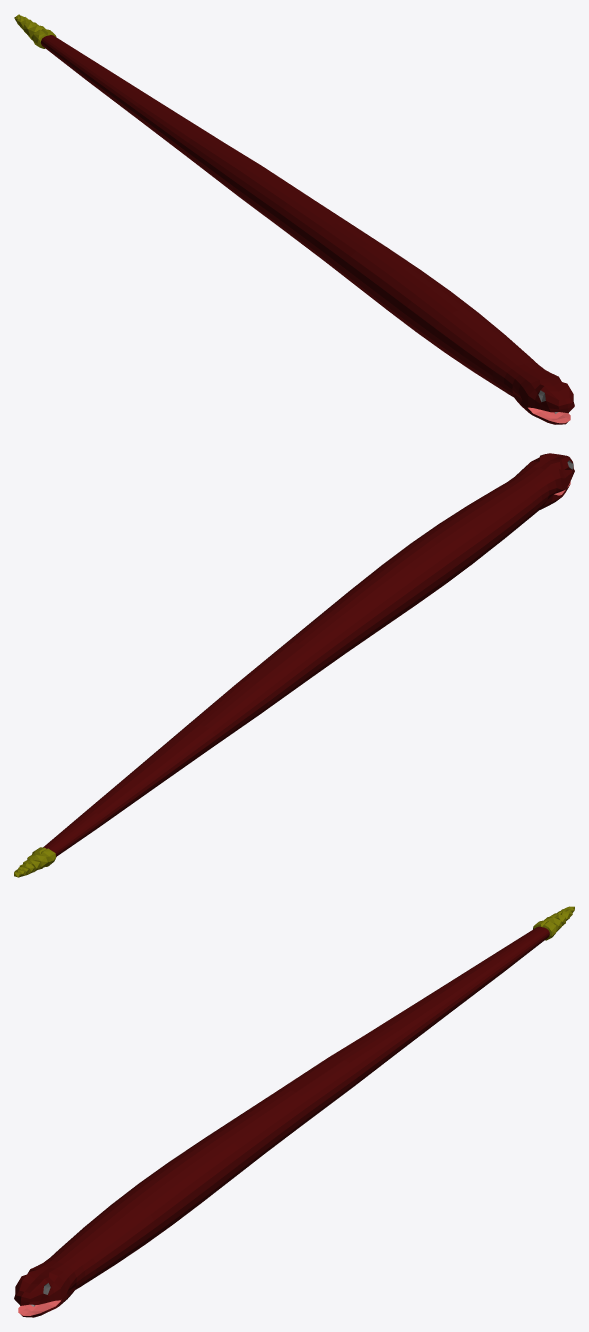
The model's file is redSnake.fbx.
3 views of the same model, one above another, from view 1: azimuth 30°, elevation 25°; view 2: azimuth 150°, elevation 25°; view 3: azimuth 330°, elevation 25° (orthographic).
Parts seen in each view (by area): view 1: Snake; view 2: Snake; view 3: Snake.
Part boxes in pixels (bbox=[...]): Snake: bbox=[14, 14, 574, 424]; Snake: bbox=[14, 453, 574, 877]; Snake: bbox=[14, 906, 574, 1317].
Size of the model in its own units: 0.5141 by 0.4464 by 9.96.
